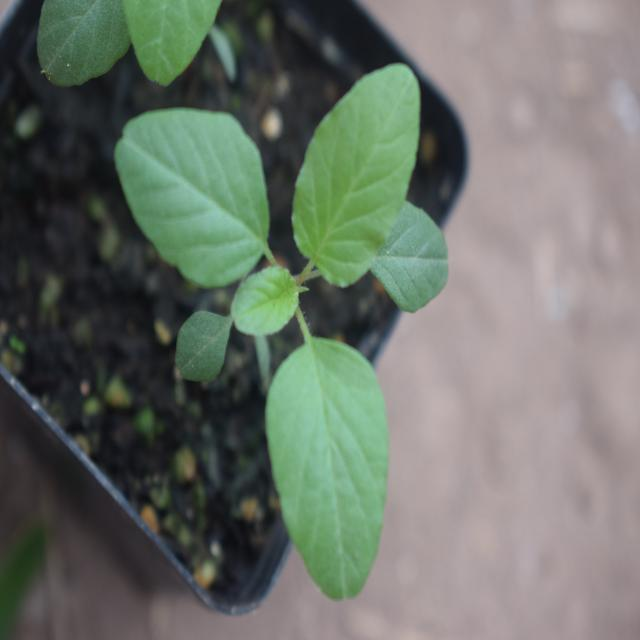pigweed: (108, 65, 464, 593)
